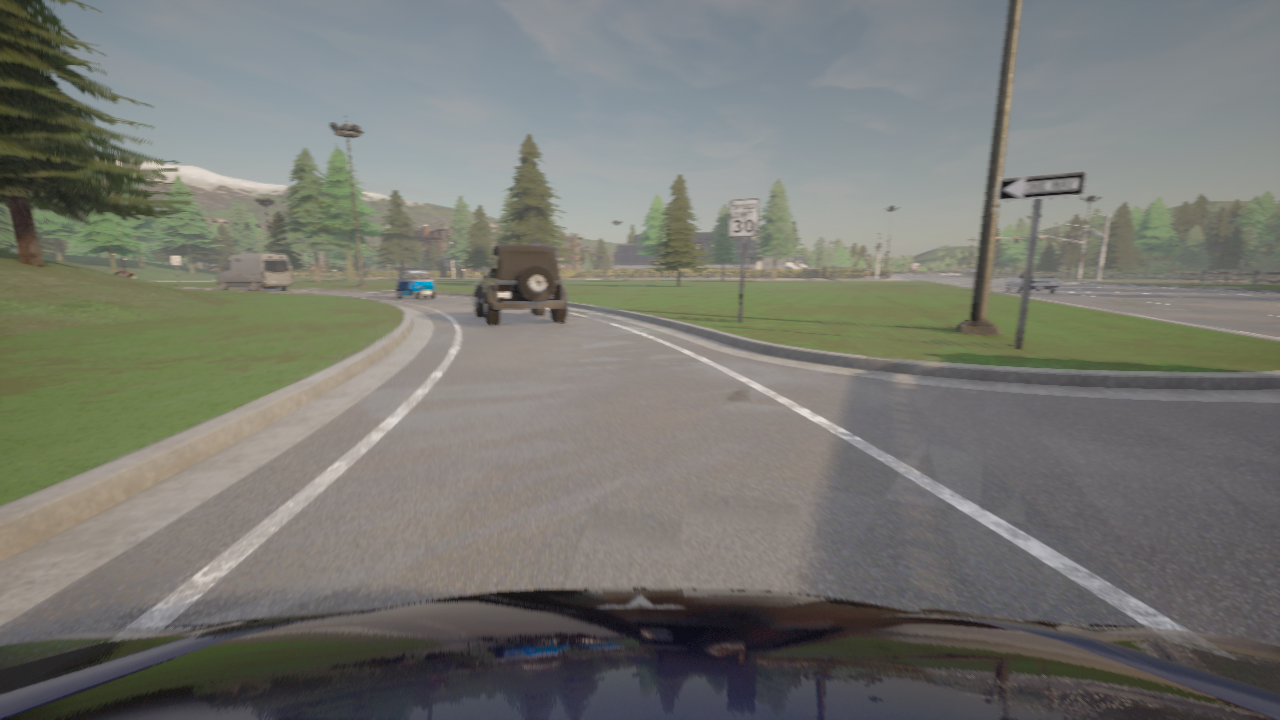cyclist: (0, 588, 1279, 719), (473, 243, 568, 325), (216, 253, 293, 291), (1005, 272, 1060, 293), (396, 270, 435, 299)
